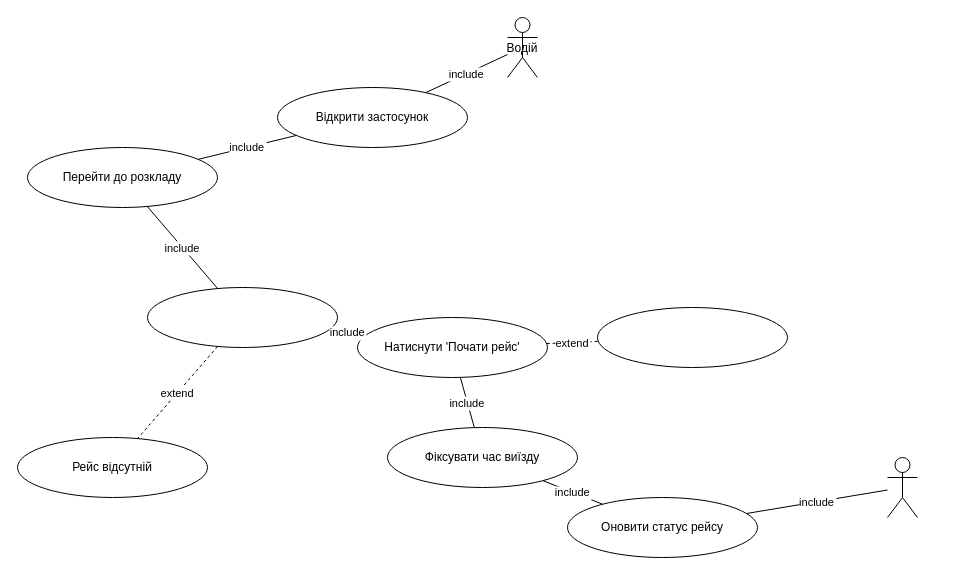
This 980x575 diagram has some shape labels left out. Here are the shapes that lost their labels. From the top down, the centre of each, then its label:
At point 242,317: "Обрати рейс".
At point 692,337: "Система недоступна".
At point 902,487: "Система автовокзалу".
